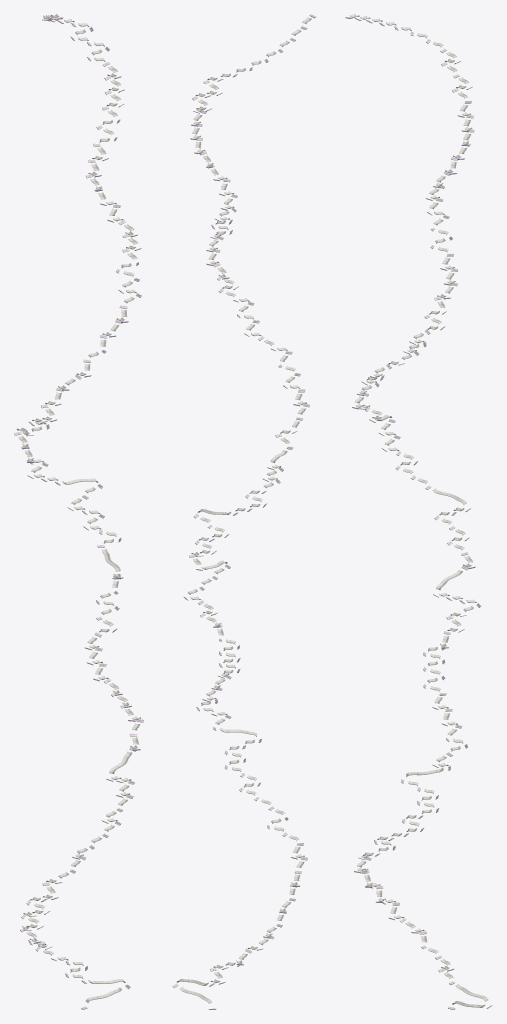
Rendered from C-route-v027-12.glb.
The picture shows the model from 3 angles, left to right: view 1: azimuth 30°, elevation 25°; view 2: azimuth 150°, elevation 25°; view 3: azimuth 330°, elevation 25°; orthographic projection. The views are drawn at different scales.
Bounding box in the file's own units: 0.4374 × 3.67 × 0.3395.
Materials: 5 (1 with a texture image).
